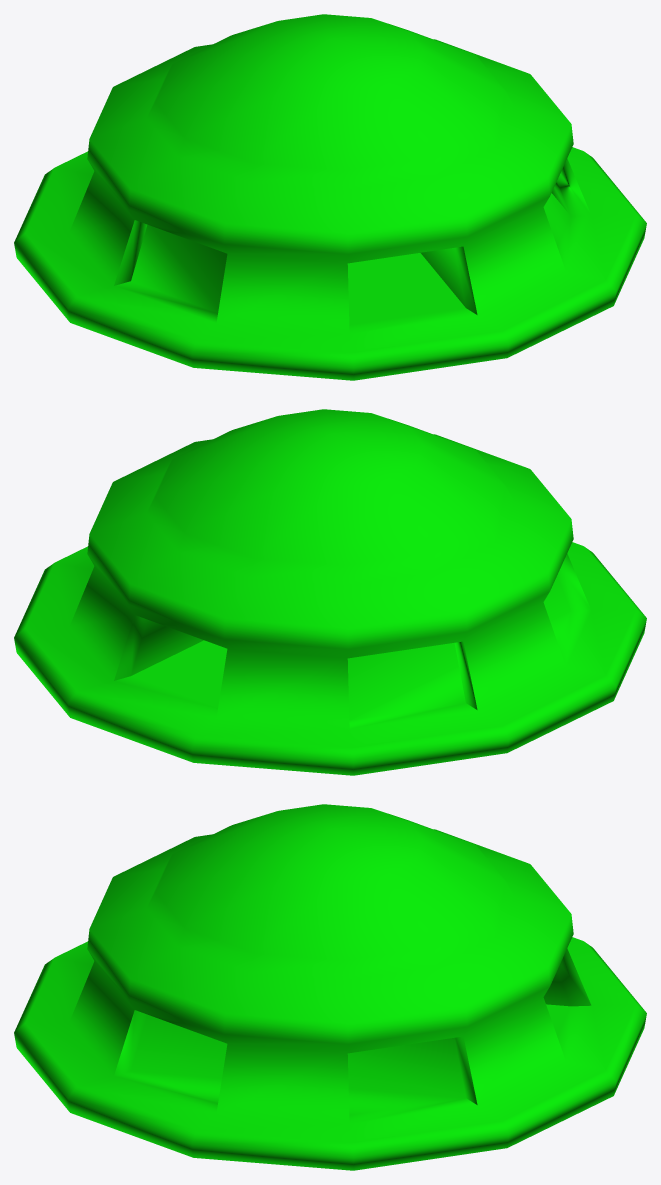
File: mdl_ciudadela_monumento_cupula.fbx
3 views of the same model, one above another, from view 1: azimuth 30°, elevation 25°; view 2: azimuth 150°, elevation 25°; view 3: azimuth 270°, elevation 25° (orthographic).
Parts seen in each view (by area): view 1: mdl_ciudadela_monumento_cupula; view 2: mdl_ciudadela_monumento_cupula; view 3: mdl_ciudadela_monumento_cupula.
Part boxes in pixels (bbox=[...]): mdl_ciudadela_monumento_cupula: bbox=[14, 14, 646, 380]; mdl_ciudadela_monumento_cupula: bbox=[14, 409, 646, 775]; mdl_ciudadela_monumento_cupula: bbox=[14, 804, 646, 1170].
Bounding box in the file's own units: 8.48 × 3.1 × 8.48.
